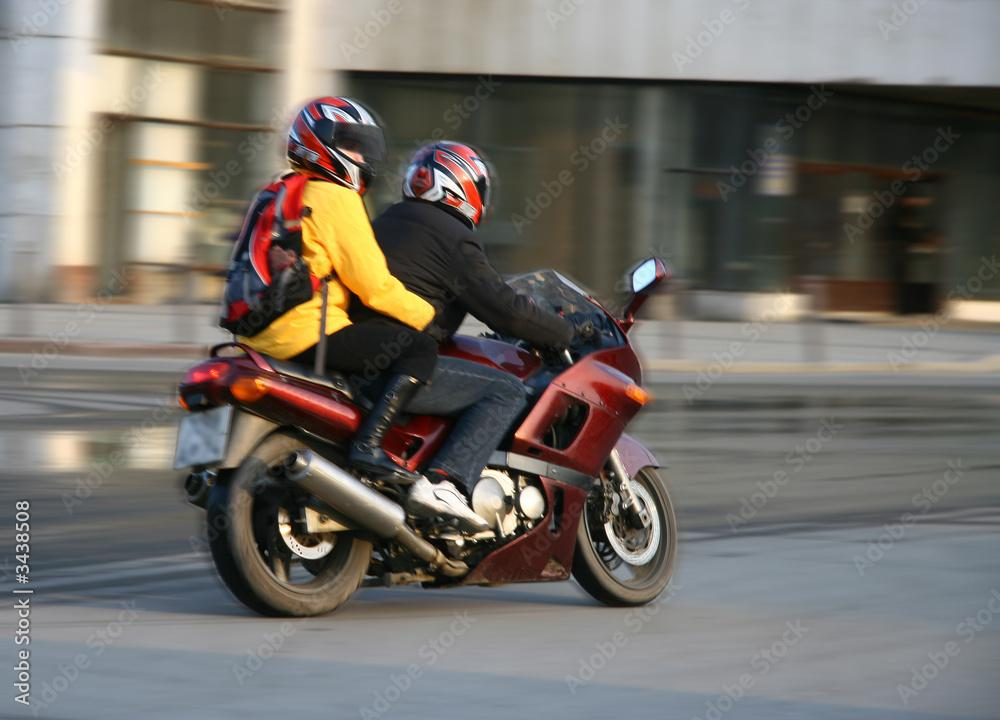helmet: (286, 94, 388, 202), (401, 138, 494, 236)
